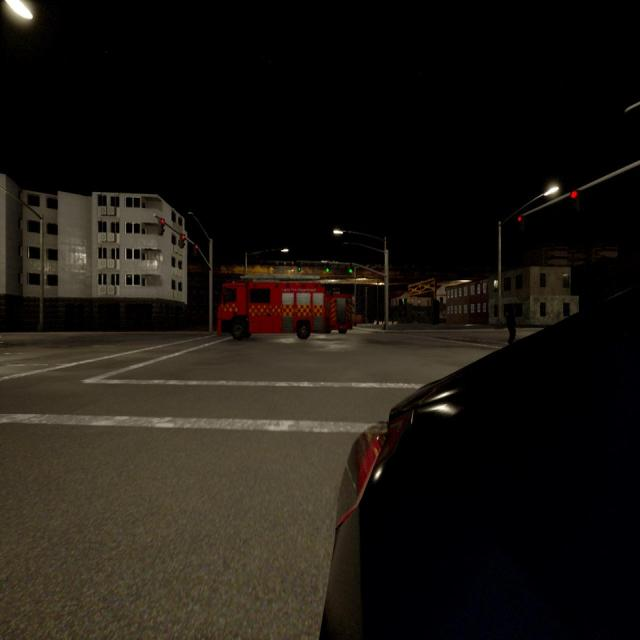Pedestrian: (506, 304, 515, 345)
Vehicle: (326, 299, 640, 638), (217, 282, 324, 338), (326, 293, 350, 332)
traffic_light: (158, 218, 165, 234), (571, 189, 578, 200), (180, 234, 185, 248), (194, 245, 198, 257), (298, 262, 301, 272), (349, 263, 352, 273), (518, 215, 522, 222), (326, 263, 329, 272)
